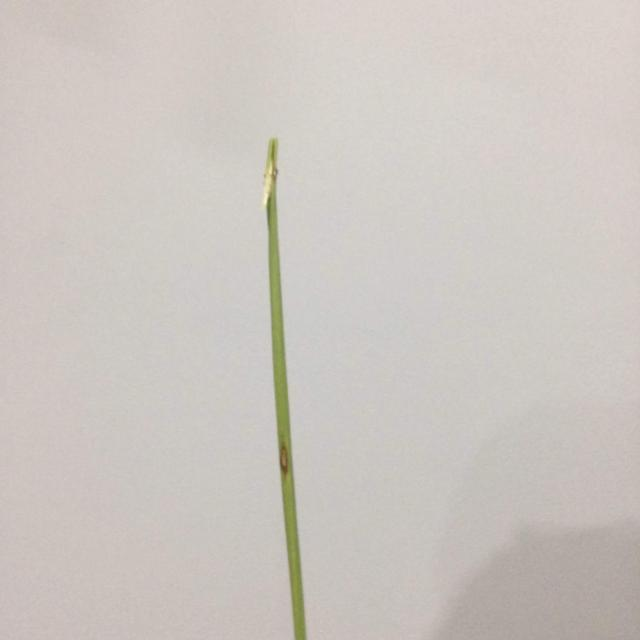Blast: (278, 448, 289, 472)
